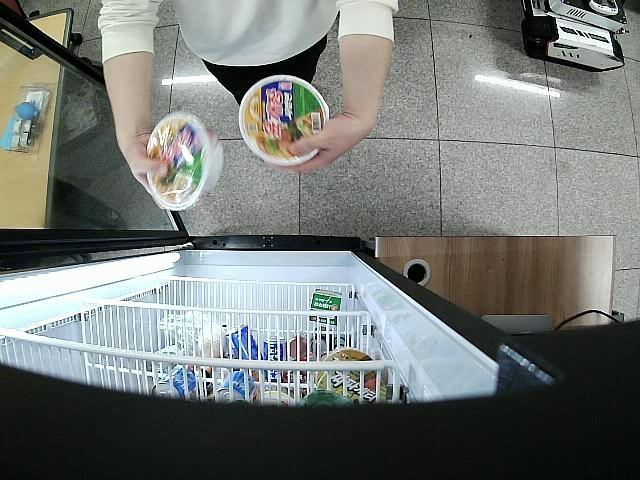09_yukGaeJang: (238, 77, 332, 164), (147, 110, 226, 212)
